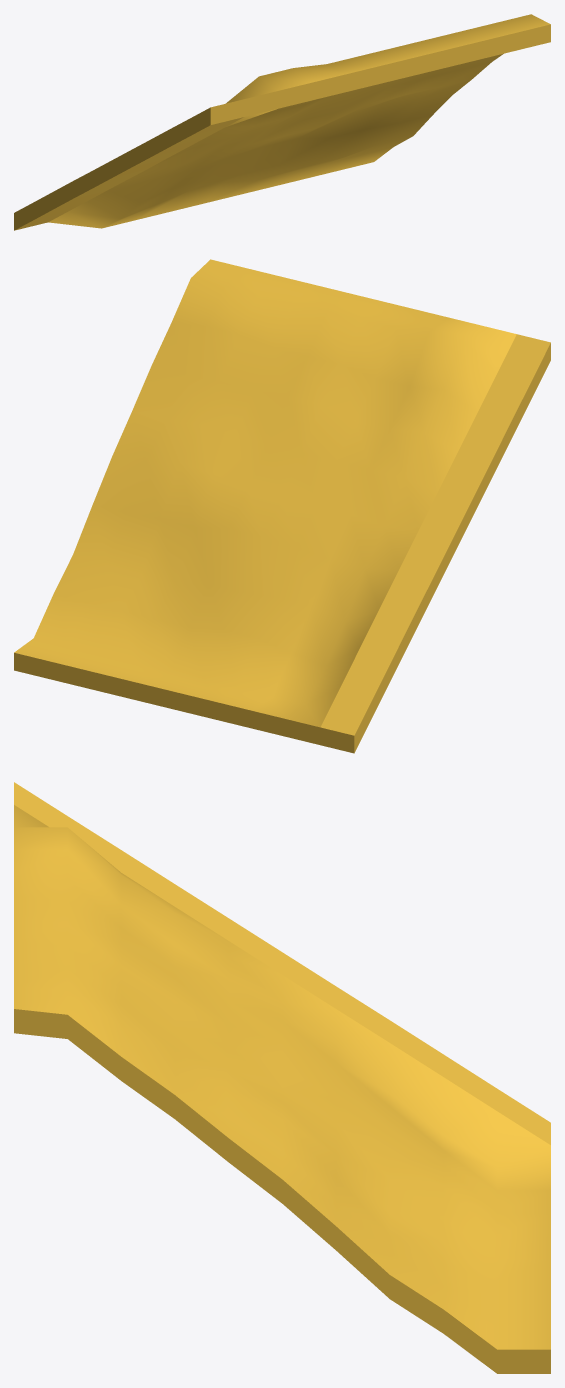
Rendered from Steil - Mitte - Hügel a - x.fbx.
3 renders of one model, top to bottom at view 1: azimuth 30°, elevation 25°; view 2: azimuth 150°, elevation 25°; view 3: azimuth 270°, elevation 25°, orthographic. The views are drawn at different scales.
Parts seen in each view (by area): view 1: Steil - Mitte - Hügel a - x; view 2: Steil - Mitte - Hügel a - x; view 3: Steil - Mitte - Hügel a - x.
Boxes of the visible parts, x1,y1,x2,y2 form: Steil - Mitte - Hügel a - x: (14, 14, 550, 230); Steil - Mitte - Hügel a - x: (14, 259, 550, 753); Steil - Mitte - Hügel a - x: (14, 782, 550, 1373).
Bounding box in the file's own units: 394 × 295 × 394.
